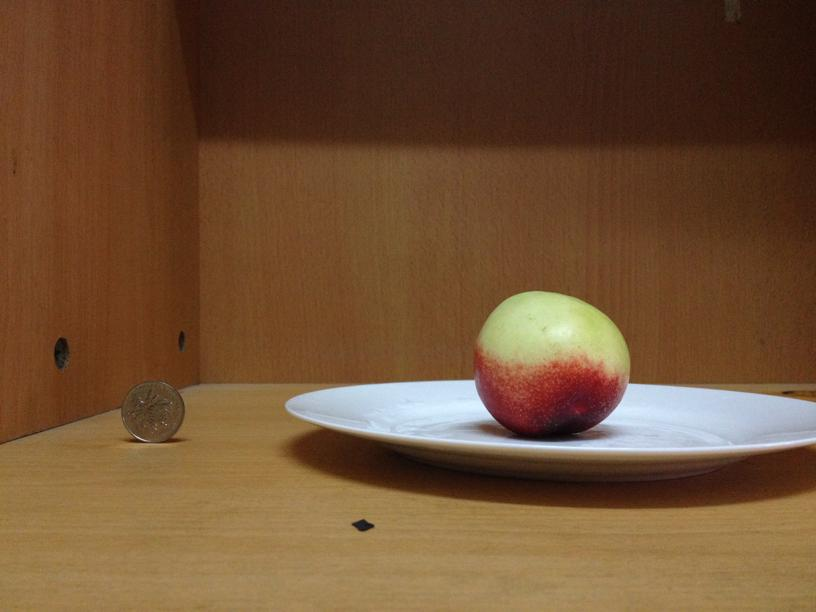coin: (121, 382, 184, 442)
peach: (470, 288, 632, 440)
